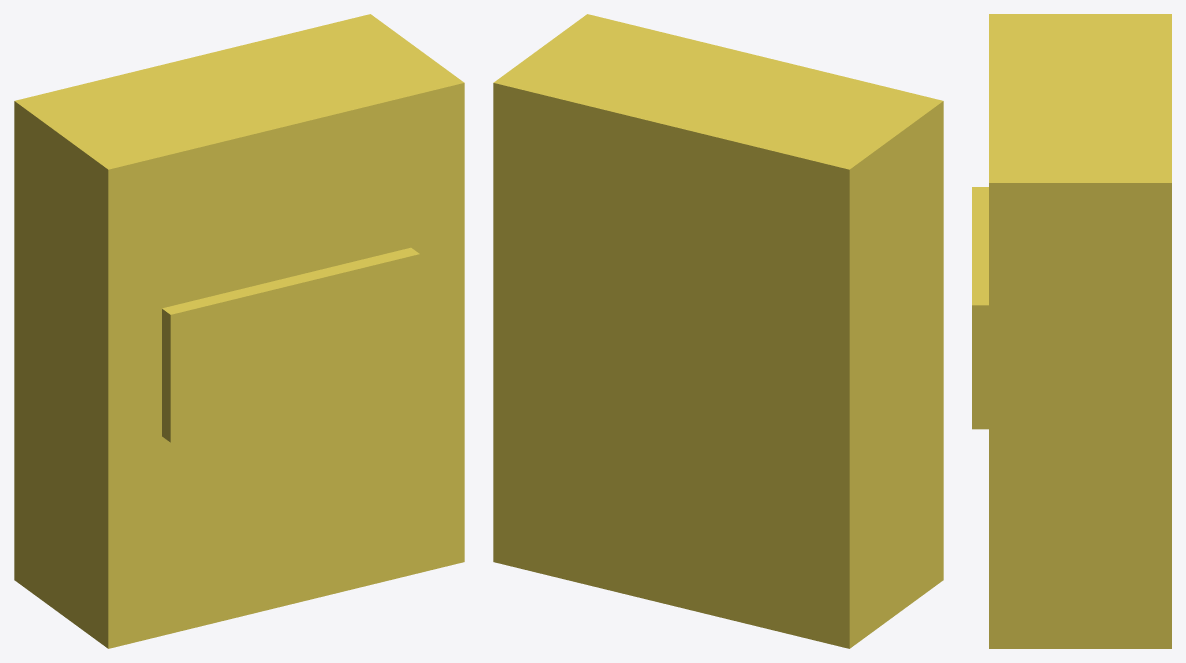
Rendered from g_rice_bag.glb.
3 renders of one model, left to right at view 1: azimuth 30°, elevation 25°; view 2: azimuth 150°, elevation 25°; view 3: azimuth 270°, elevation 25°, orthographic. The views are drawn at different scales.
Parts seen in each view (by area): view 1: g_rice_bag; view 2: g_rice_bag; view 3: g_rice_bag.
Part boxes in pixels (box(x1,y1,x2,y2)): g_rice_bag: box(14, 14, 464, 648); g_rice_bag: box(493, 14, 943, 648); g_rice_bag: box(972, 14, 1171, 648).
Bounding box in the file's own units: 0.35 × 0.45 × 0.175.
